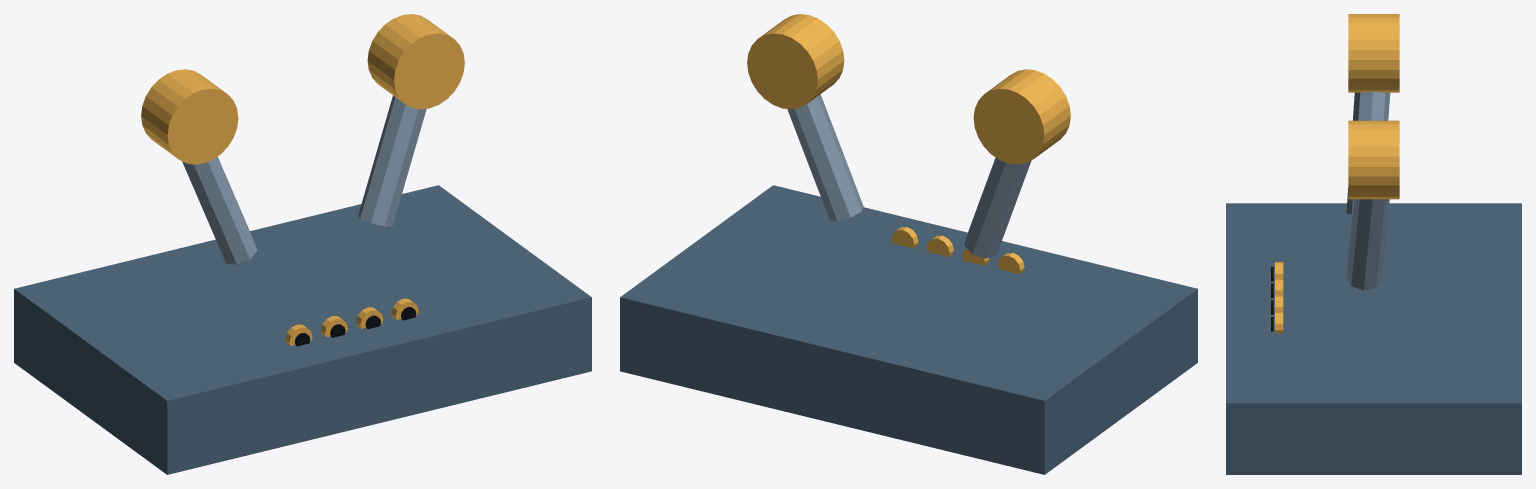
The model's file is 68_L92_CoreSampleCaptureAssembly.fbx.
3 renders of one model, left to right at view 1: azimuth 30°, elevation 25°; view 2: azimuth 150°, elevation 25°; view 3: azimuth 270°, elevation 25°, orthographic. The views are drawn at different scales.
Parts seen in each view (by area): view 1: L92_CoreSampleCaptureAssembly, L92_CoreSampleCaptureAssembly_Part_0002, L92_CoreSampleCaptureAssembly_Part_0001; view 2: L92_CoreSampleCaptureAssembly, L92_CoreSampleCaptureAssembly_Part_0002, L92_CoreSampleCaptureAssembly_Part_0001; view 3: L92_CoreSampleCaptureAssembly, L92_CoreSampleCaptureAssembly_Part_0002, L92_CoreSampleCaptureAssembly_Part_0001.
Boxes of the visible parts, x1,y1,x2,y2 form: L92_CoreSampleCaptureAssembly: (14, 185, 591, 474); L92_CoreSampleCaptureAssembly_Part_0002: (141, 14, 464, 164); L92_CoreSampleCaptureAssembly_Part_0001: (182, 95, 426, 264); L92_CoreSampleCaptureAssembly: (620, 185, 1197, 474); L92_CoreSampleCaptureAssembly_Part_0002: (747, 14, 1070, 164); L92_CoreSampleCaptureAssembly_Part_0001: (787, 94, 1031, 258); L92_CoreSampleCaptureAssembly: (1226, 203, 1521, 474); L92_CoreSampleCaptureAssembly_Part_0002: (1348, 14, 1399, 199); L92_CoreSampleCaptureAssembly_Part_0001: (1346, 91, 1390, 290).
Bounding box in the file's own units: 240 × 170 × 150.
